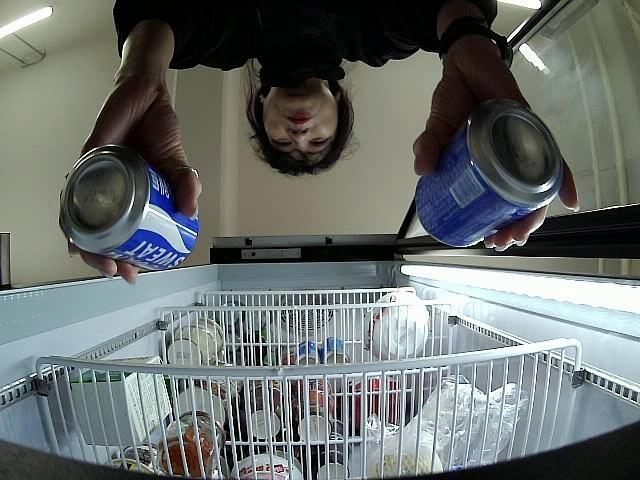13_pocariSweat: (417, 102, 562, 246), (60, 144, 200, 273)
